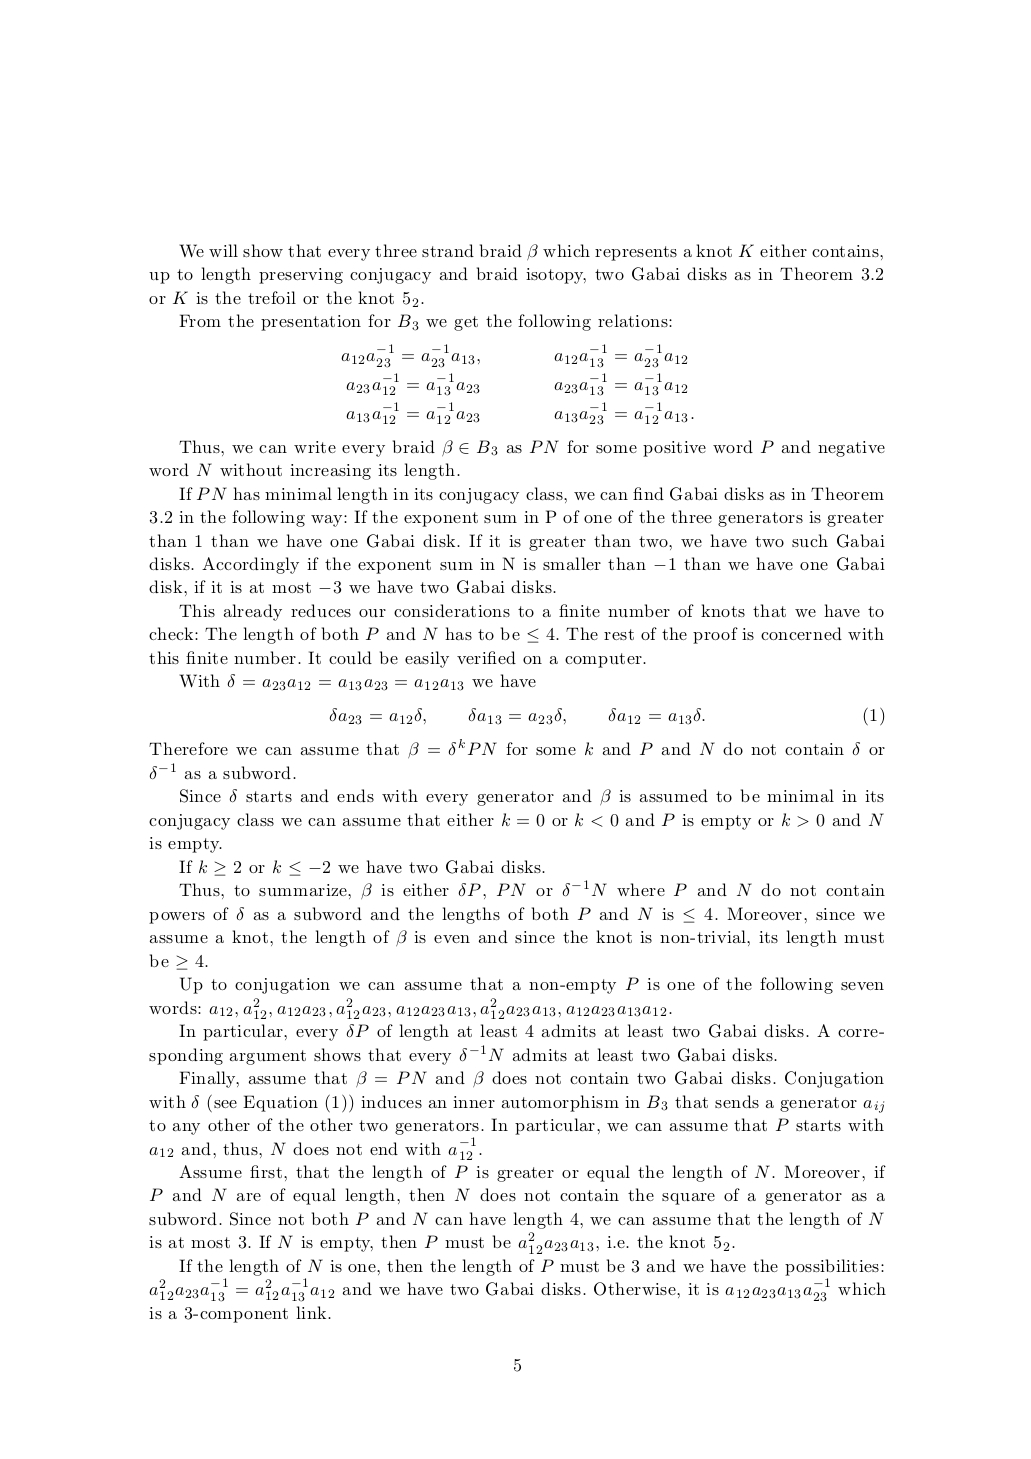formula: (329, 706, 884, 726), (341, 342, 687, 368), (346, 400, 693, 425), (346, 371, 687, 396), (179, 671, 534, 690)
